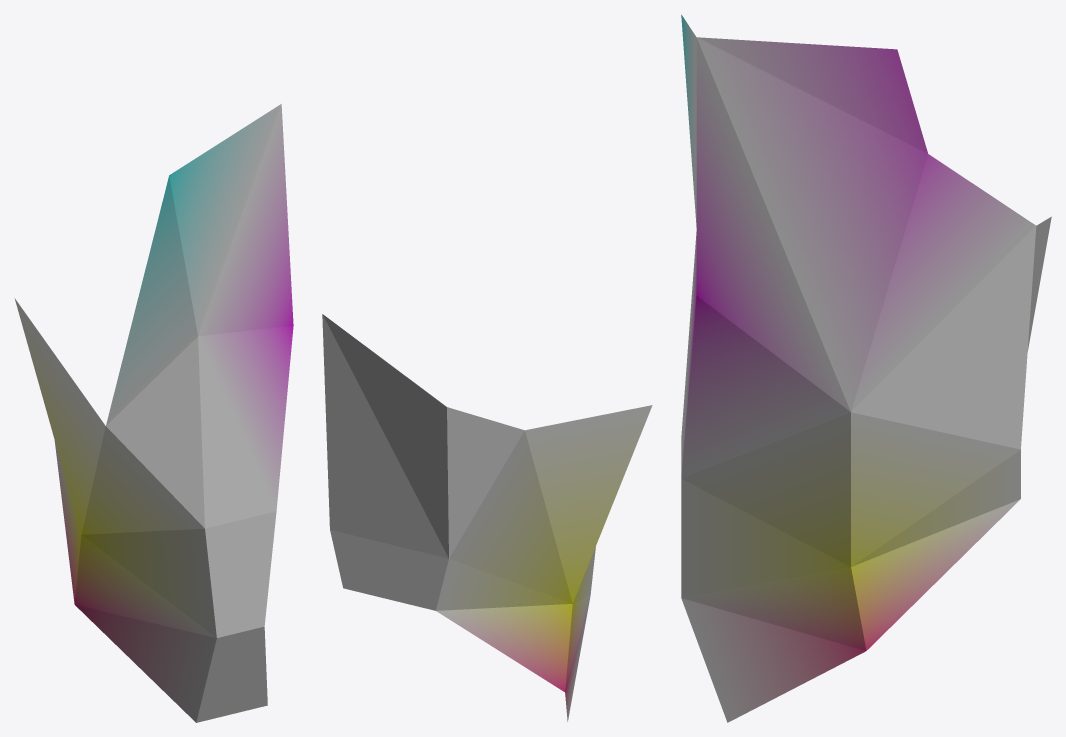
3 renders of one model, left to right at view 1: azimuth 30°, elevation 25°; view 2: azimuth 150°, elevation 25°; view 3: azimuth 270°, elevation 25°, orthographic. The views are drawn at different scales.
Parts seen in each view (by area): view 1: model_1127; view 2: model_1127; view 3: model_1127.
Part boxes in pixels (x1,y1,x2,y2): model_1127: [14, 104, 293, 722]; model_1127: [322, 314, 652, 721]; model_1127: [681, 14, 1051, 722].
Bounding box in the file's own units: 19 × 50 × 24.
